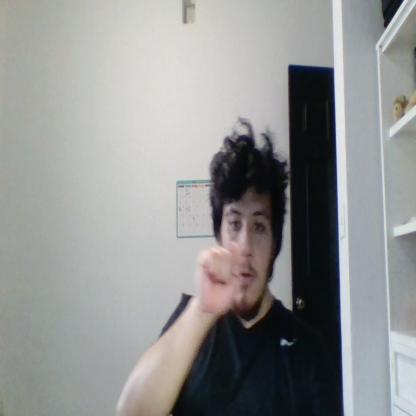T: (196, 242, 242, 315)
